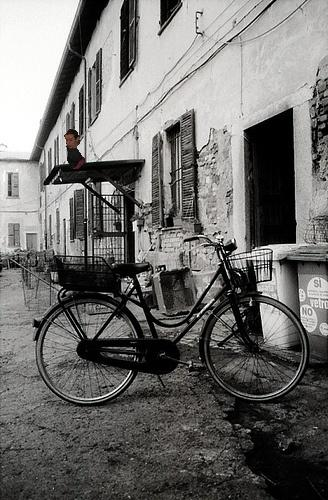tampered: (65, 130, 85, 169)
